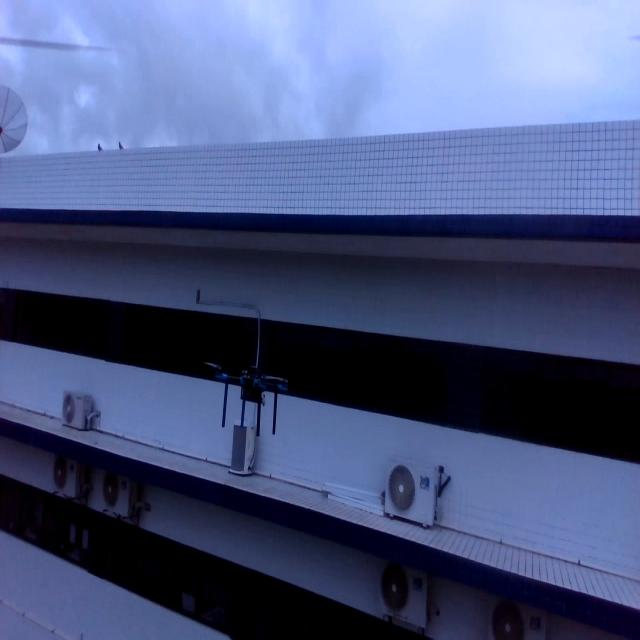-uav-: (202, 341, 298, 449)
